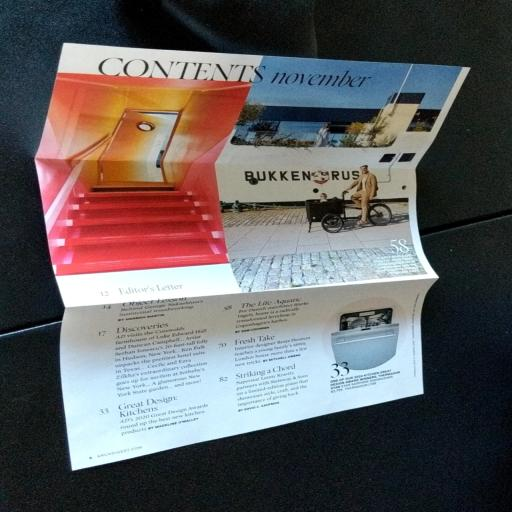paper: (29, 16, 505, 512)
